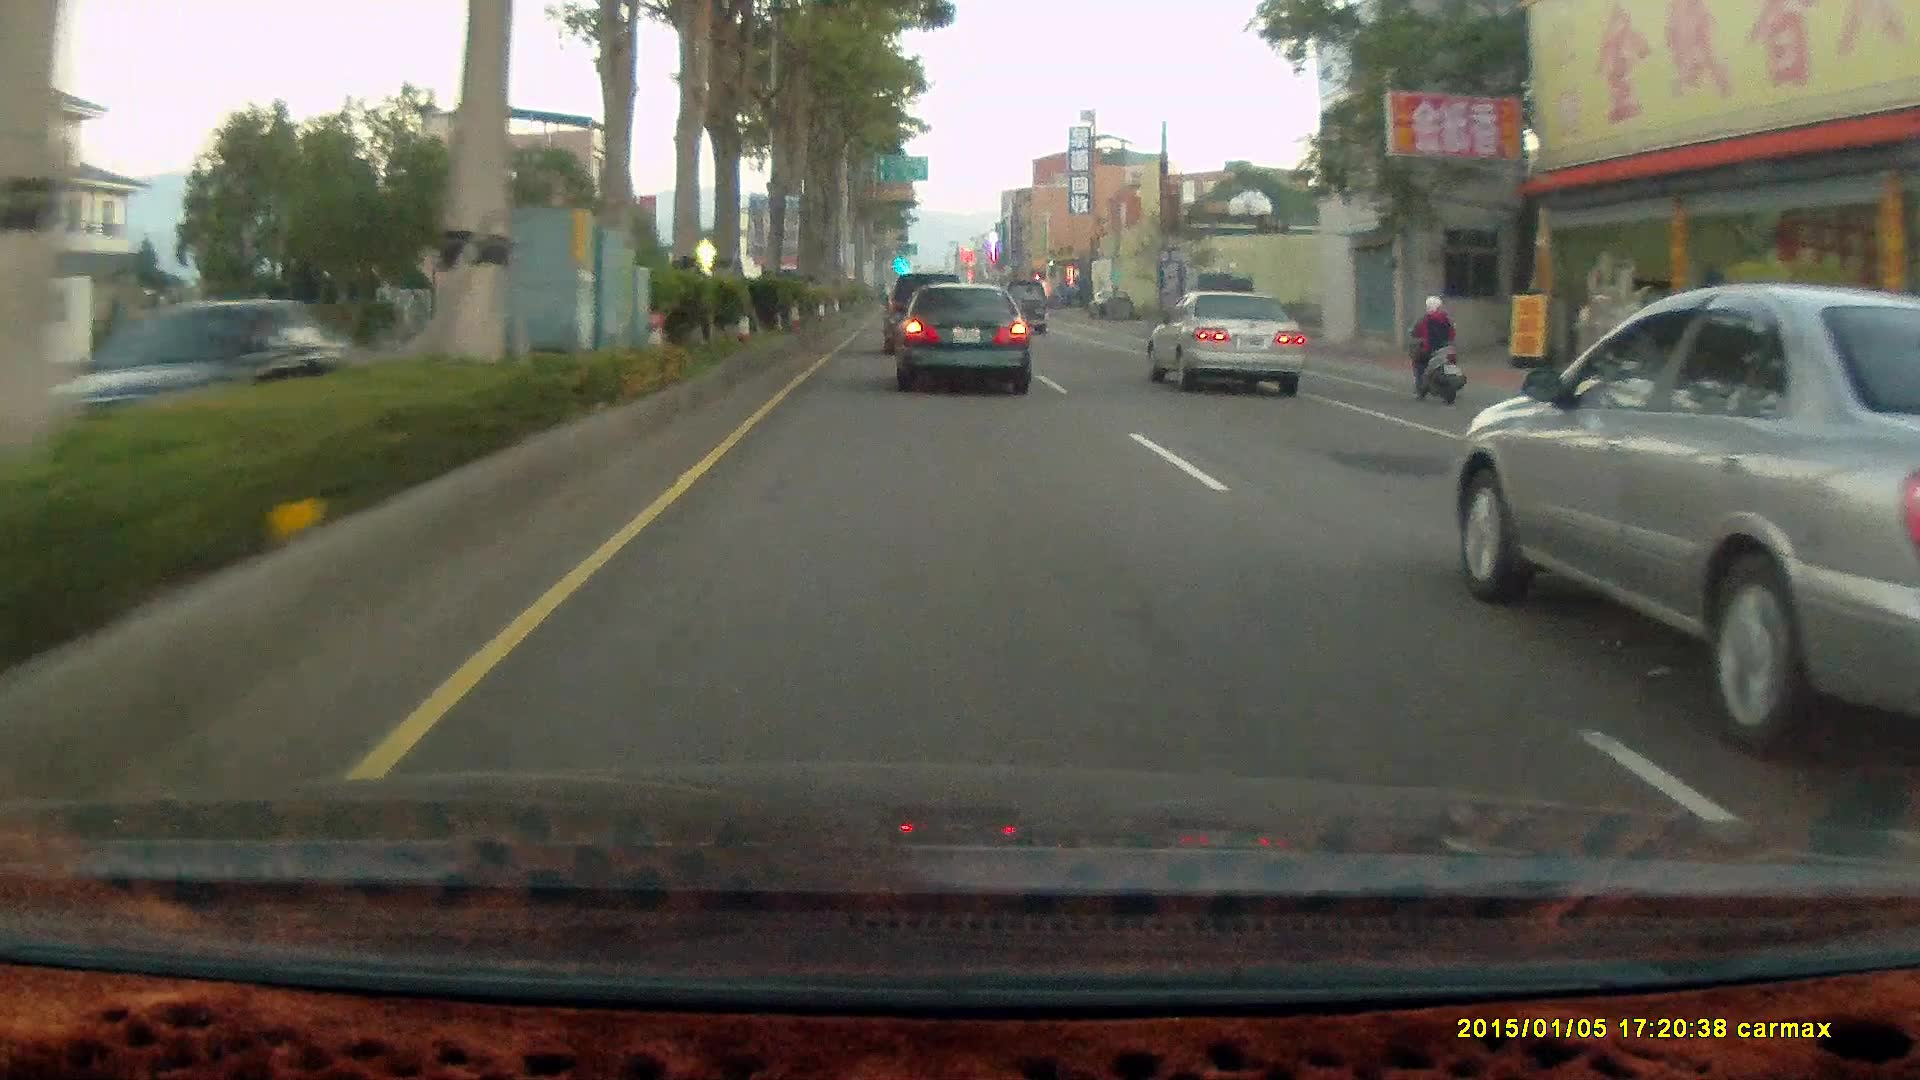rider: (1397, 287, 1475, 411), (1402, 289, 1467, 404)
vehicle: (1448, 288, 1920, 762), (22, 298, 316, 438), (1147, 288, 1306, 402), (1146, 287, 1305, 397), (893, 281, 1034, 400), (892, 287, 1032, 399), (884, 271, 973, 356), (882, 273, 964, 351), (1178, 277, 1254, 348), (999, 280, 1046, 336)
